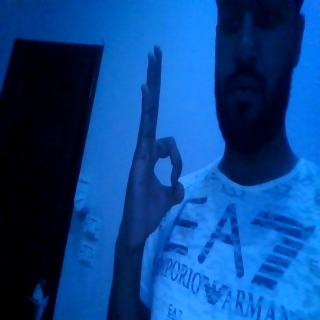Space: (117, 40, 190, 248)
